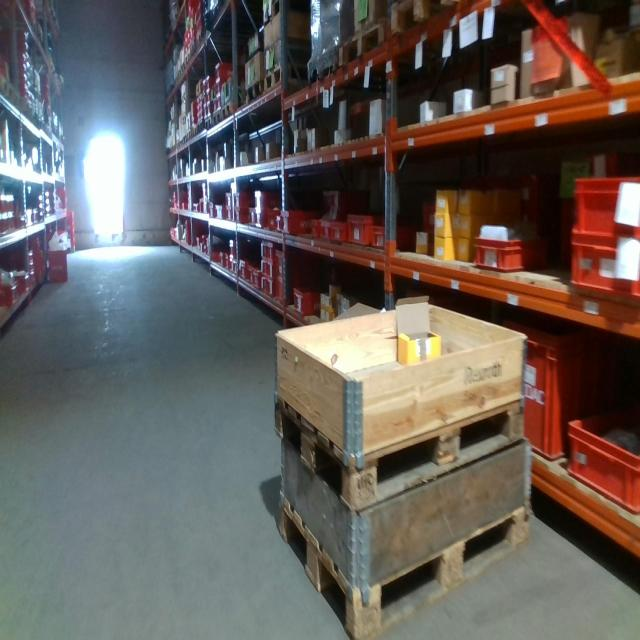pallet: (275, 489, 530, 637), (275, 381, 526, 517), (388, 1, 477, 38), (338, 15, 392, 69), (261, 60, 307, 100), (307, 42, 340, 91), (261, 2, 311, 25), (241, 78, 262, 109), (17, 88, 35, 122), (1, 73, 16, 110), (195, 21, 207, 60), (222, 99, 238, 127), (203, 116, 212, 138), (212, 108, 221, 128), (188, 40, 194, 66), (190, 123, 196, 146), (183, 53, 189, 76), (198, 118, 203, 138)
small_load_carrier: (510, 325, 612, 470), (568, 398, 638, 517), (571, 171, 640, 240), (570, 237, 636, 302), (477, 230, 563, 275), (374, 221, 427, 259), (347, 211, 388, 250), (292, 282, 324, 320), (272, 244, 288, 305), (310, 218, 334, 248), (288, 212, 310, 243), (255, 190, 286, 211), (48, 248, 68, 278), (329, 219, 352, 243), (214, 64, 242, 83), (227, 237, 252, 255), (256, 240, 275, 261), (235, 205, 252, 225), (269, 207, 283, 231), (246, 264, 260, 288), (256, 209, 273, 228), (236, 192, 256, 207), (259, 258, 274, 278), (261, 274, 272, 296), (273, 213, 286, 231), (211, 79, 224, 93), (224, 192, 236, 207), (230, 255, 239, 275), (248, 209, 257, 227), (213, 98, 226, 110), (240, 260, 249, 275), (224, 205, 234, 217)
